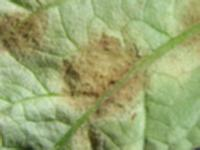Tomato mold leaf: (1, 0, 200, 147)
